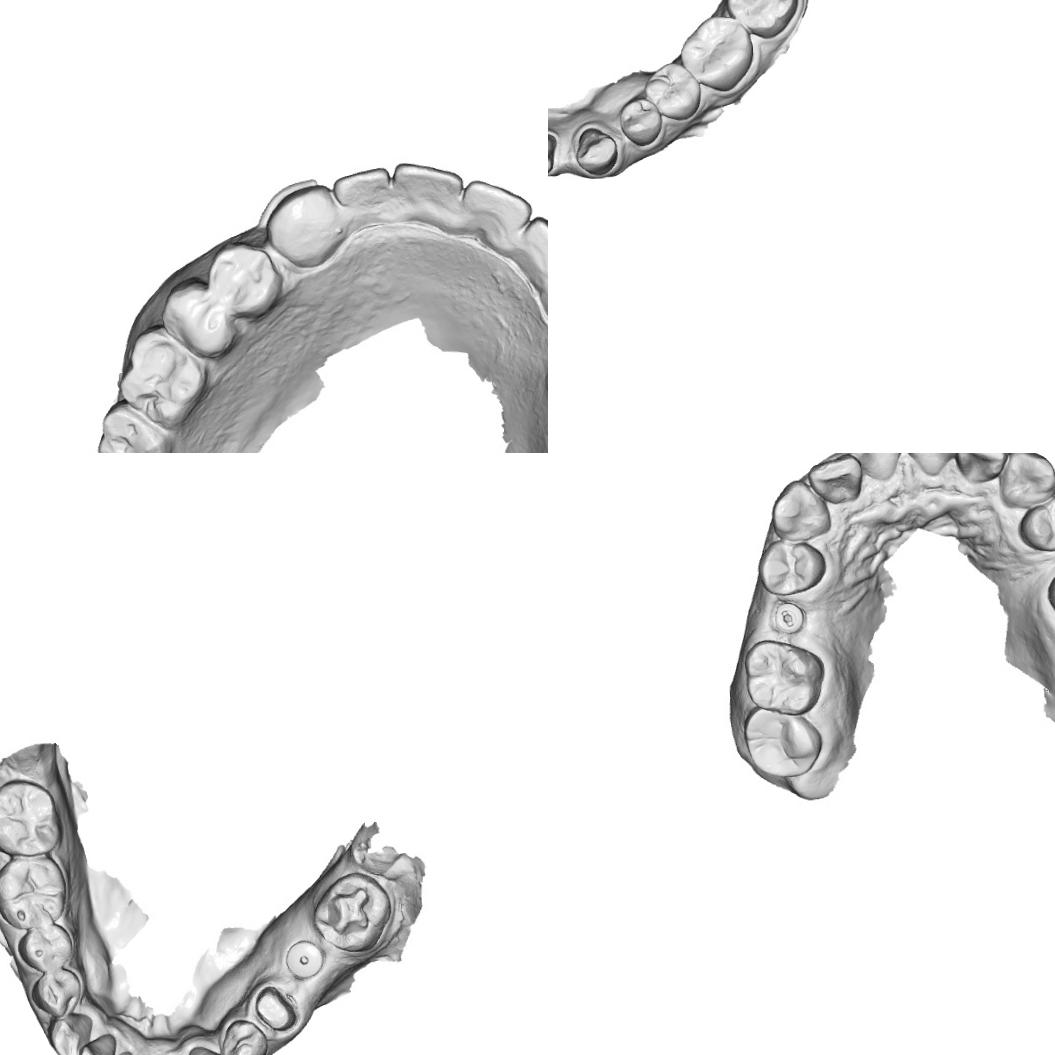canine: (261, 182, 344, 274), (768, 478, 833, 544), (995, 453, 1055, 511), (574, 124, 620, 176), (44, 1012, 96, 1055), (183, 1043, 231, 1055)
crown: (252, 983, 299, 1035)
implant: (282, 937, 325, 981)
implant_minus: (770, 598, 806, 635)
incisor: (391, 159, 466, 224), (464, 178, 533, 244), (332, 165, 395, 225), (807, 453, 864, 506), (516, 213, 548, 274), (842, 453, 904, 484), (954, 453, 1008, 485), (899, 453, 962, 477), (77, 1030, 118, 1055), (548, 131, 559, 178)
inlay: (317, 884, 374, 940)
molar: (118, 324, 210, 430), (742, 636, 826, 716), (676, 13, 756, 94), (740, 705, 826, 780), (0, 855, 69, 931), (0, 776, 64, 857), (94, 397, 175, 453), (722, 0, 801, 41)
premolar: (157, 277, 233, 363), (204, 242, 284, 322), (755, 536, 828, 598), (642, 59, 704, 123), (13, 922, 76, 972), (28, 967, 84, 1018), (617, 96, 663, 148), (1018, 493, 1055, 553), (218, 1017, 270, 1055)
